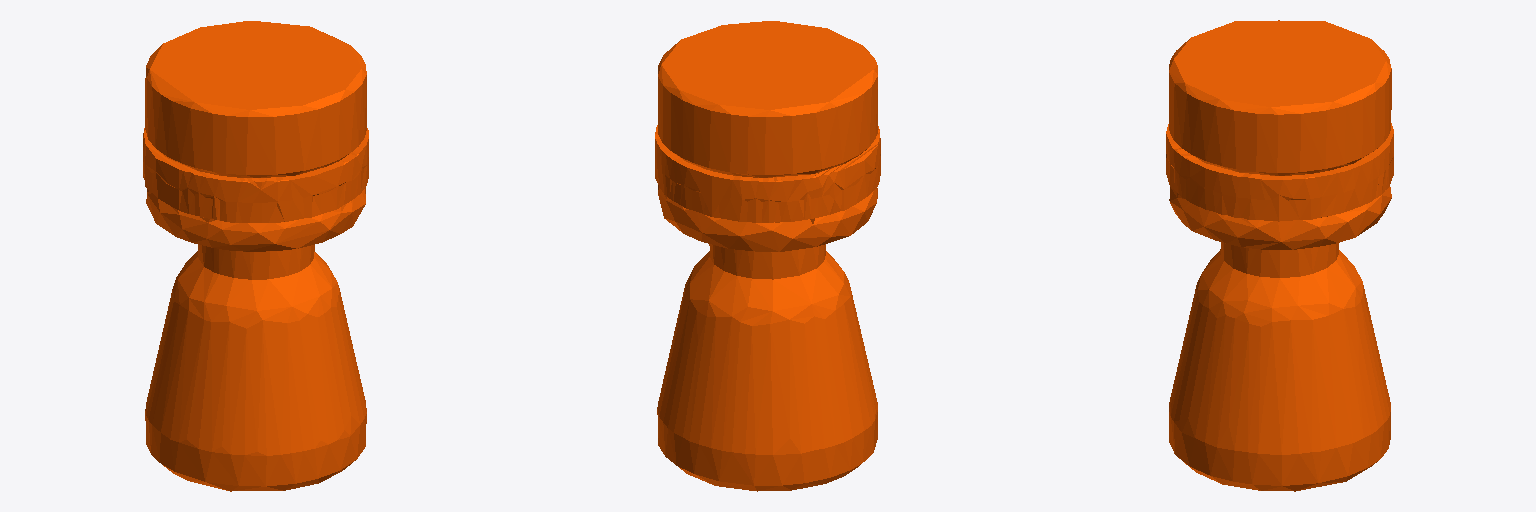
The robot description file, URDF, robot "ba3bd06b6bde4150a1d848f2d7a6de37":
<?xml version="1.0" ?>
<robot name="ba3bd06b6bde4150a1d848f2d7a6de37">
   <material name="obj_color">
      <color rgba="1.0 0.423529411765 0.0392156862745 1.0"/>
   </material>
   <link name="top">
      <inertial>
         <origin rpy="0.0003618469433507929 0.001388972201513349 0.001389121070435547" xyz="2.691428183126389e-05 -2.186617824181895e-06 0.001168634399123259"/>
         <mass value="0.5362351615272182"/>
         <inertia ixx="0.001389117380784094" ixy="2.292055958928153e-08" ixz="-3.125888772866297e-07" iyy="0.00138897574598205" iyz="2.267595409191056e-07" izz="0.0003618470885335455"/>
      </inertial>
      <visual>
         <origin rpy="0 0 0" xyz="0 0 0"/>
         <geometry>
            <mesh filename="top_watertight_tiny.stl" scale="1 1 1"/>
         </geometry>
         <material name="obj_color"/>
      </visual>
      <collision>
         <origin rpy="0 0 0" xyz="0 0 0"/>
         <geometry>
            <mesh filename="top_watertight_tiny.obj" scale="1 1 1"/>
         </geometry>
      </collision>
   </link>
   <link name="bottom">
      <inertial>
         <origin rpy="1.633333333199431e-08 1.633333333199431e-08 1.633333333362855e-08" xyz="0.3464080000000008 0.3464080000000008 0.3464080000000008"/>
         <mass value="0.0009800000000000017"/>
         <inertia ixx="1.633333333253906e-08" ixy="5.447480642029219e-19" ixz="5.447480642029219e-19" iyy="1.633333333253906e-08" iyz="5.447480642029219e-19" izz="1.633333333253906e-08"/>
      </inertial>
      <visual>
         <origin rpy="0 0 0" xyz="0 0 0"/>
         <geometry>
            <mesh filename="bottom_watertight_tiny.stl" scale="1 1 1"/>
         </geometry>
         <material name="obj_color"/>
      </visual>
   </link>
   <joint name="rotation" type="revolute">
      <origin xyz="0 0 0"/>
      <axis xyz="0 0 -1"/>
      <parent link="bottom"/>
      <child link="top"/>
      <dynamics damping="1.0" friction="1.0"/>
      <limit effort="0.1" velocity="0.1" lower="0" upper="0.001"/>
   </joint>
</robot>

--- Facts derived from the render (not from the file) ---
3 views of the same robot in one strip: view 1: azimuth 30°, elevation 25°; view 2: azimuth 150°, elevation 25°; view 3: azimuth 270°, elevation 25° (orthographic).
Model ba3bd06b6bde4150a1d848f2d7a6de37 with 2 links and 1 joints (1 revolute), rooted at bottom, posed every joint at zero.
Visible links, largest first — view 1: top; view 2: top; view 3: top.
Link boxes in pixels (bbox=[...]): top: bbox=[143, 21, 368, 491]; top: bbox=[655, 21, 880, 491]; top: bbox=[1166, 20, 1393, 491].
Size in the robot's own frame: 0.0801 by 0.0801 by 0.1496 metres.
Meshes: 2 distinct files referenced, 1 mesh visuals loaded (1 binary STL); not drawn: 1 (reference not matched to a file when rendering).
